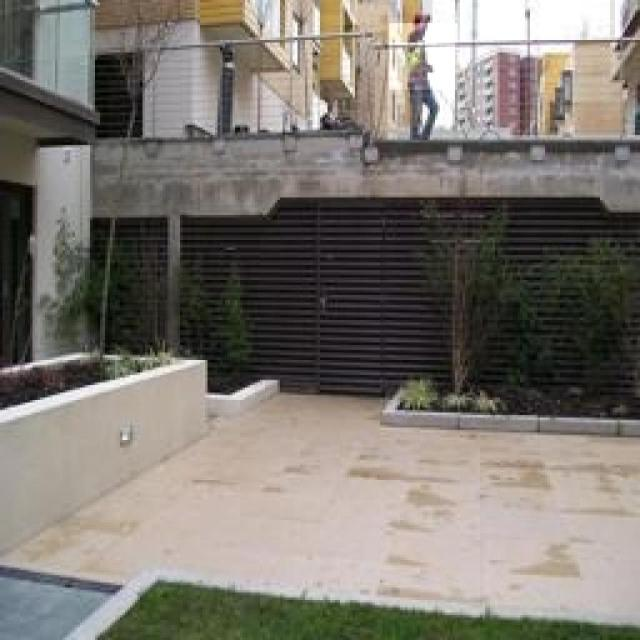Helmet: (402, 0, 432, 34)
Safety Vest: (389, 23, 457, 90)
